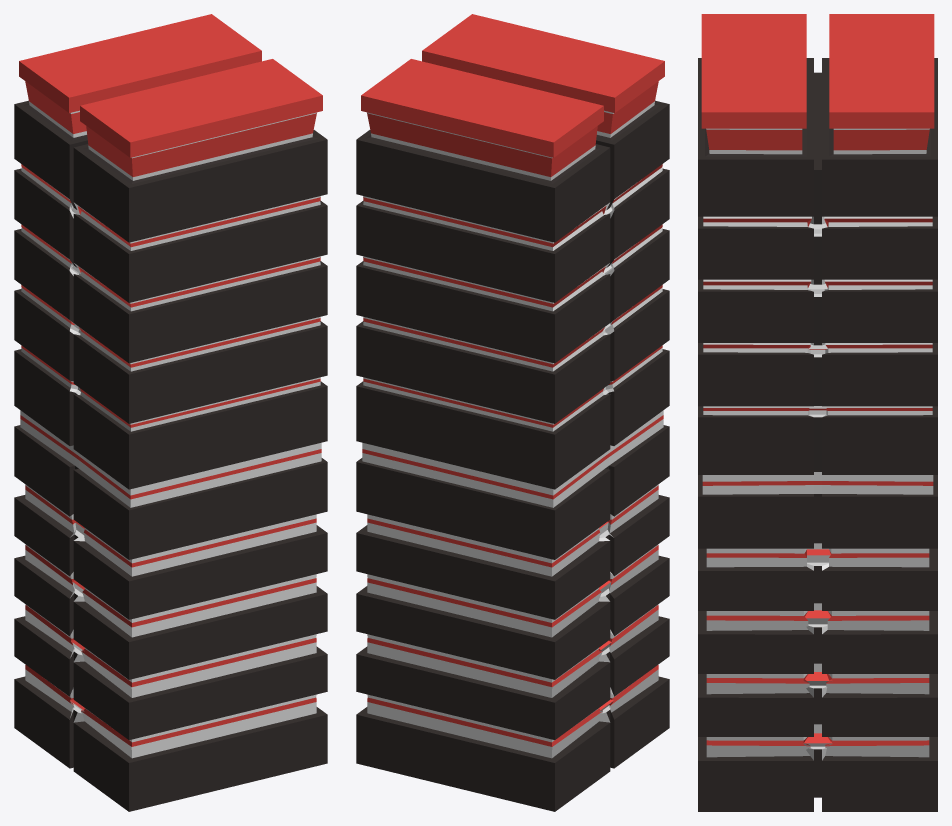
Rendered from building1.fbx.
3 renders of one model, left to right at view 1: azimuth 30°, elevation 25°; view 2: azimuth 150°, elevation 25°; view 3: azimuth 270°, elevation 25°, orthographic. The views are drawn at different scales.
Visible parts, largest first — view 1: Skyscraper; view 2: Skyscraper; view 3: Skyscraper.
Part boxes in pixels (box(x1,y1,x2,y2)): Skyscraper: box(14, 14, 327, 811); Skyscraper: box(356, 14, 669, 811); Skyscraper: box(698, 14, 937, 811).
Bounding box in the file's own units: 200 × 642 × 200.
